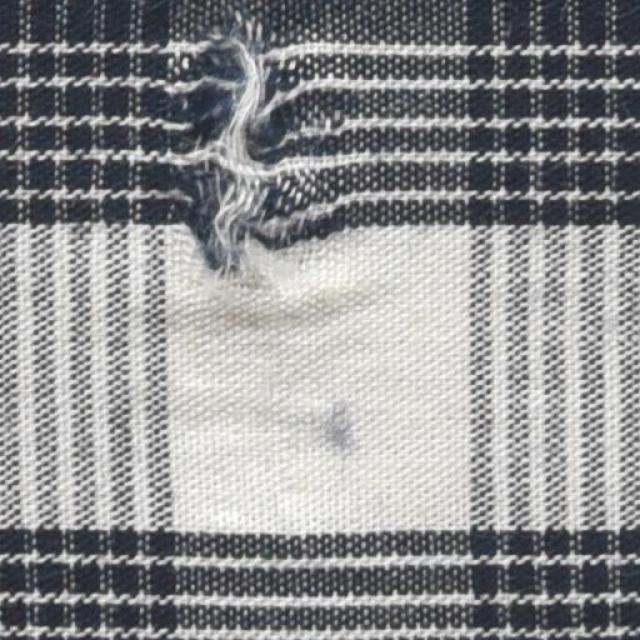Snag: (171, 21, 299, 251)
